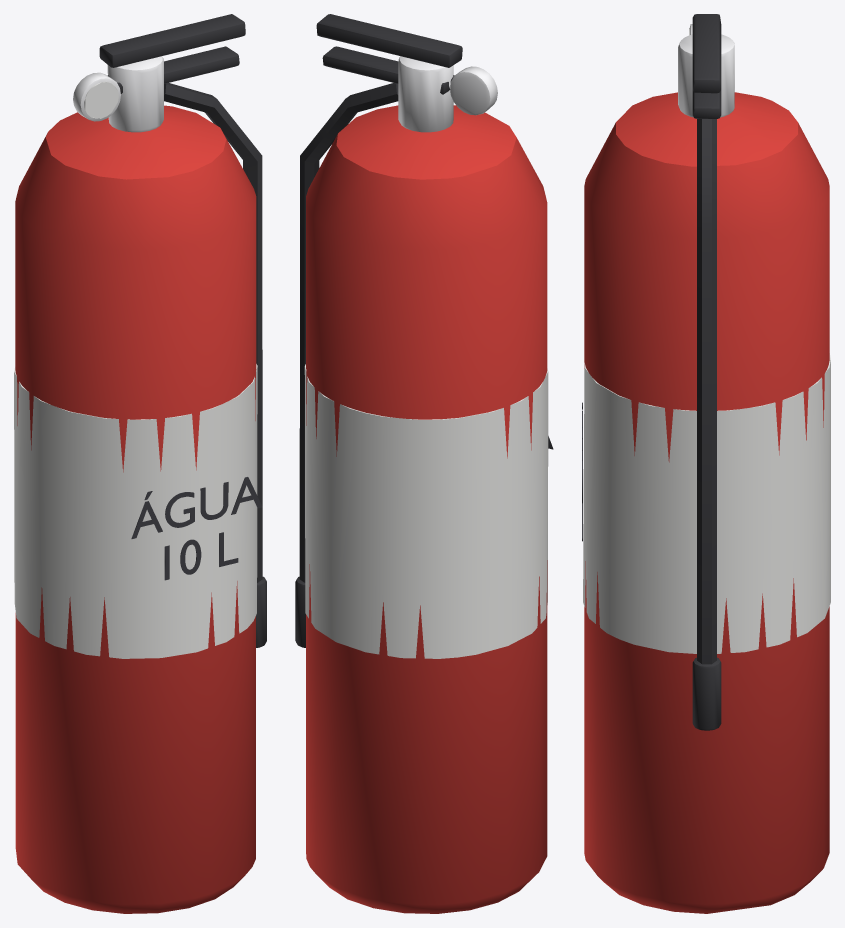
The model's file is HID-INC-004_lod1.glb.
3 views of the same model, side by side, from view 1: azimuth 30°, elevation 25°; view 2: azimuth 150°, elevation 25°; view 3: azimuth 270°, elevation 25° (orthographic).
Visible parts, largest first — view 1: HID-INC-004_cilindro, HID-INC-004_rotulo, HID-INC-004_mangueira, HID-INC-004_gatilho, HID-INC-004_valvula, HID-INC-004_texto, HID-INC-004_alca, HID-INC-004_mostrador, HID-INC-004_manometro, HID-INC-004_bico; view 2: HID-INC-004_cilindro, HID-INC-004_rotulo, HID-INC-004_mangueira, HID-INC-004_valvula, HID-INC-004_gatilho, HID-INC-004_manometro, HID-INC-004_alca, HID-INC-004_bico; view 3: HID-INC-004_cilindro, HID-INC-004_rotulo, HID-INC-004_mangueira, HID-INC-004_gatilho, HID-INC-004_valvula, HID-INC-004_bico, HID-INC-004_alca.
Part boxes in pixels (x1,y1,x2,y2): HID-INC-004_cilindro: (15,105,256,913); HID-INC-004_rotulo: (14,364,257,658); HID-INC-004_mangueira: (164,83,262,582); HID-INC-004_gatilho: (99,14,245,67); HID-INC-004_valvula: (107,56,163,132); HID-INC-004_texto: (131,477,262,580); HID-INC-004_alca: (107,46,239,93); HID-INC-004_mostrador: (84,81,118,118); HID-INC-004_manometro: (73,72,120,121); HID-INC-004_bico: (256,576,266,647); HID-INC-004_cilindro: (306,105,547,913); HID-INC-004_rotulo: (304,364,548,658); HID-INC-004_mangueira: (299,83,398,582); HID-INC-004_valvula: (398,56,453,132); HID-INC-004_gatilho: (316,14,462,67); HID-INC-004_manometro: (450,66,497,115); HID-INC-004_alca: (322,46,454,94); HID-INC-004_bico: (295,576,305,647); HID-INC-004_cilindro: (584,92,829,913); HID-INC-004_rotulo: (583,353,830,653); HID-INC-004_mangueira: (697,119,716,664); HID-INC-004_gatilho: (692,14,721,93); HID-INC-004_valvula: (678,34,734,117); HID-INC-004_bico: (692,657,721,730); HID-INC-004_alca: (692,90,721,118).
Bounding box in the file's own units: 0.1908 × 0.642 × 0.1723.
